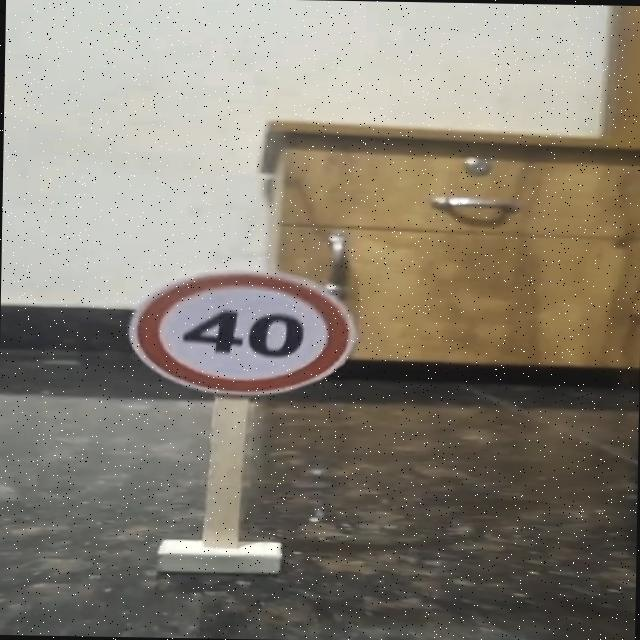Speed40: (122, 263, 364, 400)
